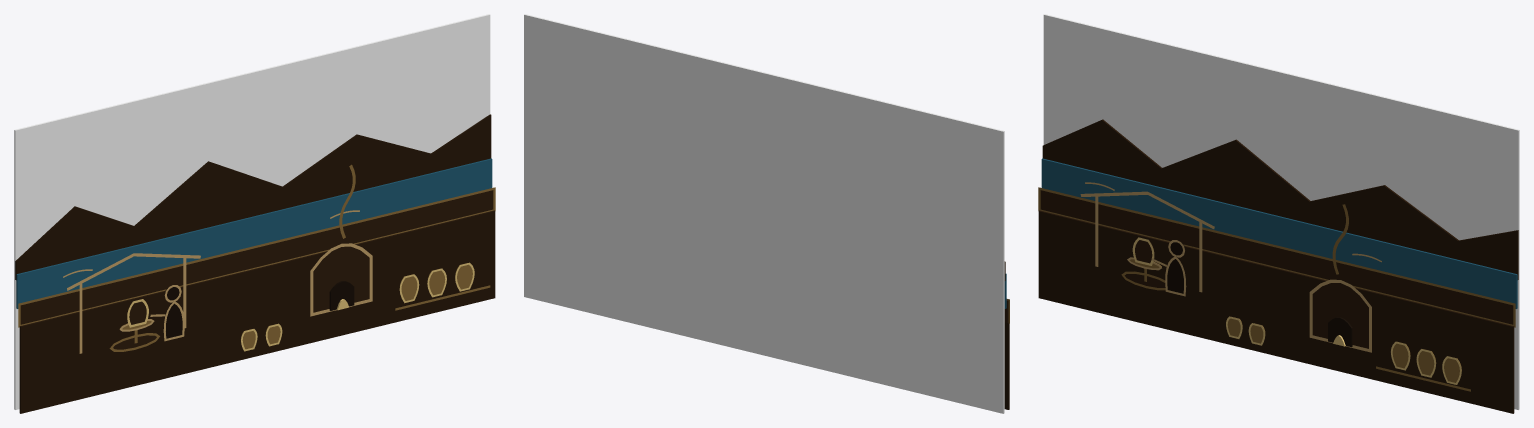
File: loc-goncharnyi-dvor.glb
The picture shows the model from 3 angles, left to right: view 1: azimuth 30°, elevation 25°; view 2: azimuth 150°, elevation 25°; view 3: azimuth 330°, elevation 25°; orthographic projection.
Visible parts, largest first — view 1: loc-goncharnyi-dvor; view 2: loc-goncharnyi-dvor; view 3: loc-goncharnyi-dvor.
Boxes of the visible parts, x1,y1,x2,y2 form: loc-goncharnyi-dvor: (14, 14, 495, 413); loc-goncharnyi-dvor: (524, 14, 1009, 413); loc-goncharnyi-dvor: (1038, 14, 1519, 413).
Bounding box in the file's own units: 5.36 × 3 × 0.481.
